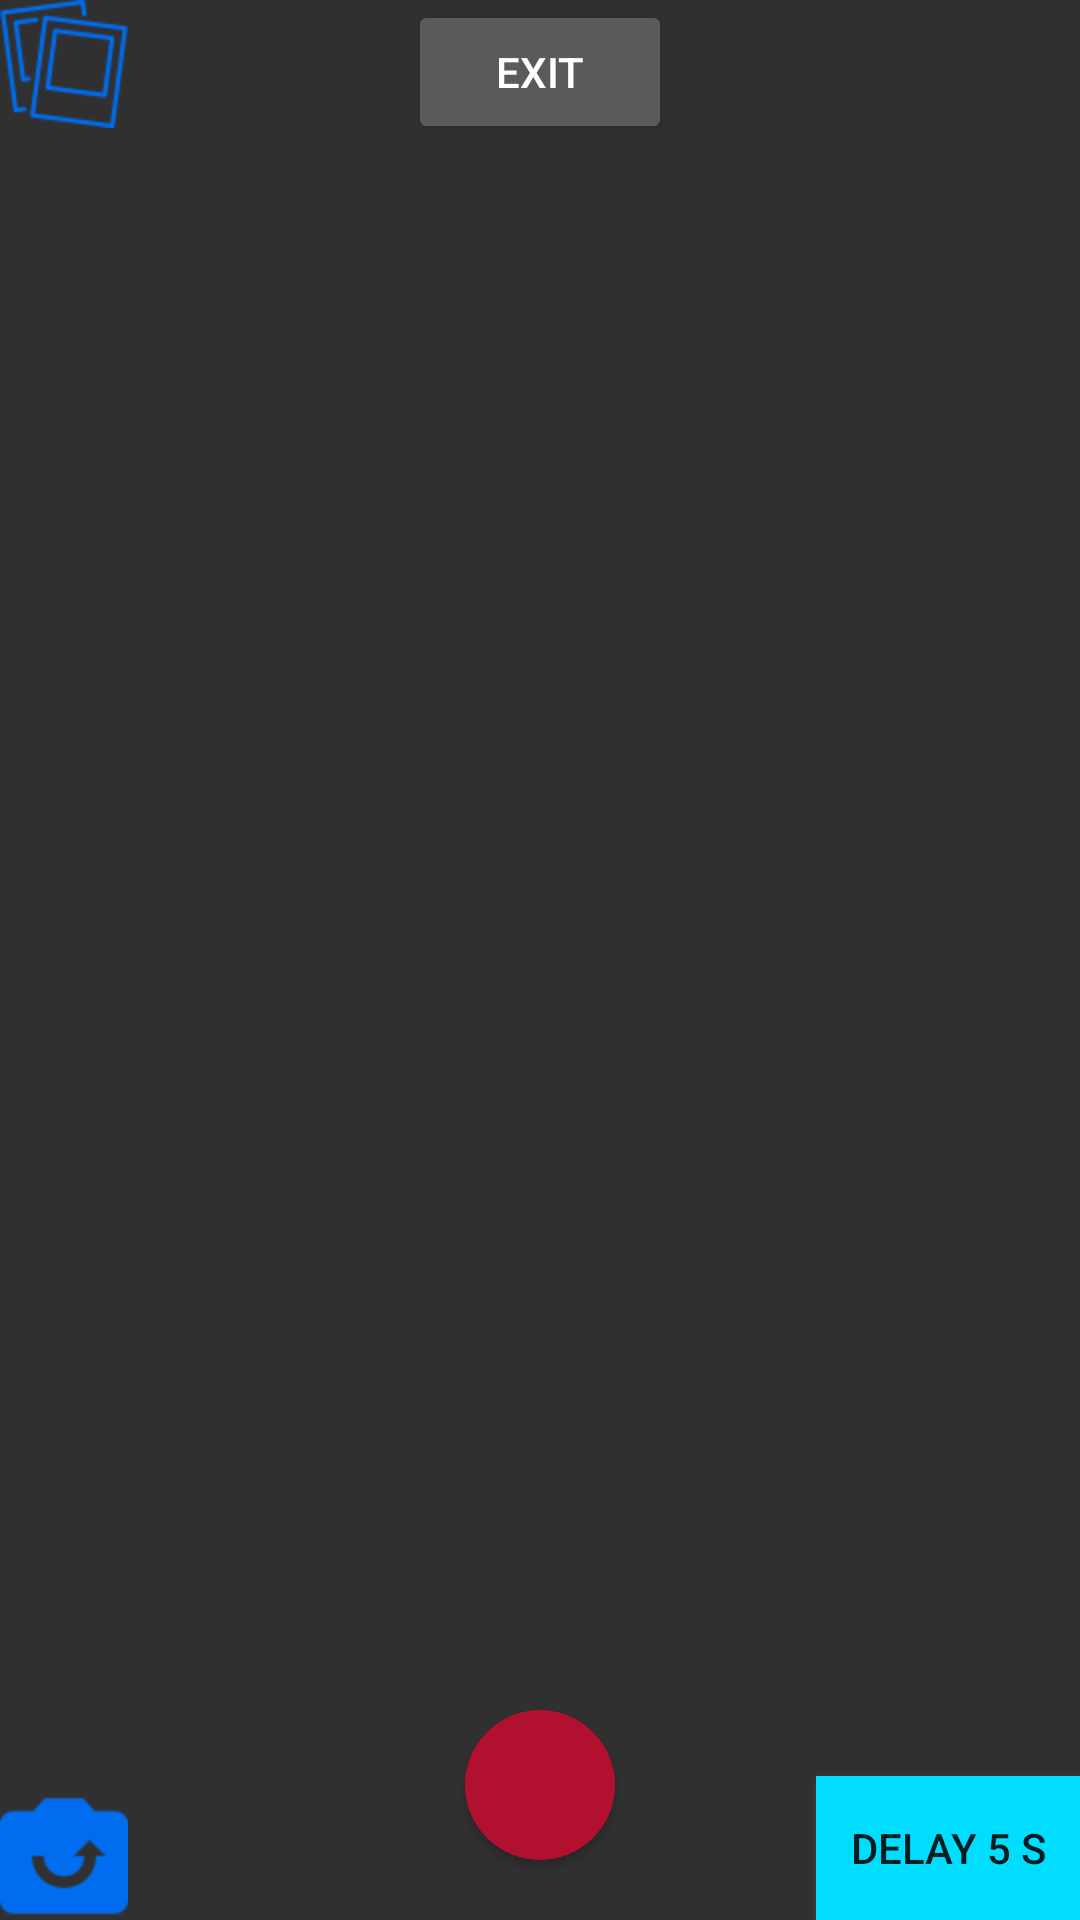

Locate icon controls on the screen. Image size 1080px×1920px, boxes as rect(x1, y1, x2, y2).
burst shot: rect(0, 0, 128, 128)
camera mode: rect(0, 1797, 128, 1915)
